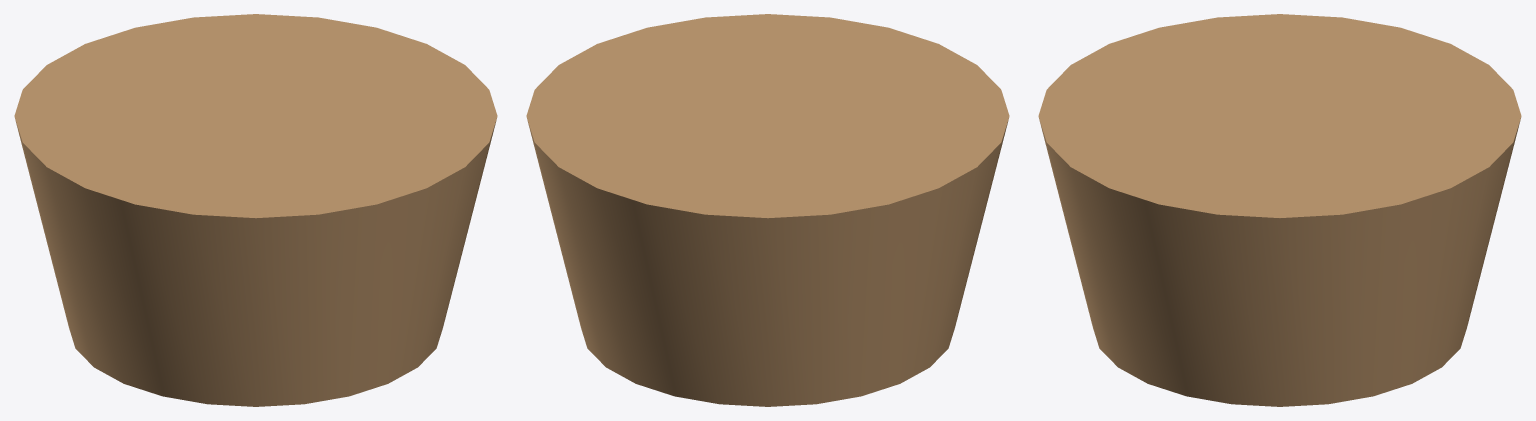
The model's file is jar_tall_cork.obj.
The picture shows the model from 3 angles, left to right: view 1: azimuth 30°, elevation 25°; view 2: azimuth 150°, elevation 25°; view 3: azimuth 270°, elevation 25°; orthographic projection.
Parts seen in each view (by area): view 1: jar_tall_cork; view 2: jar_tall_cork; view 3: jar_tall_cork.
Part boxes in pixels (x1,y1,x2,y2): jar_tall_cork: [14, 14, 497, 406]; jar_tall_cork: [526, 14, 1009, 406]; jar_tall_cork: [1038, 14, 1521, 406].
Size of the model in its own units: 0.062 by 0.03 by 0.062.
Materials: 1 (1 with a texture image).
